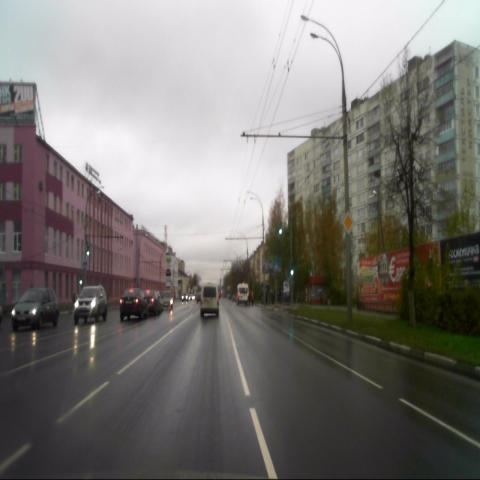2_1: (342, 211, 356, 234)
